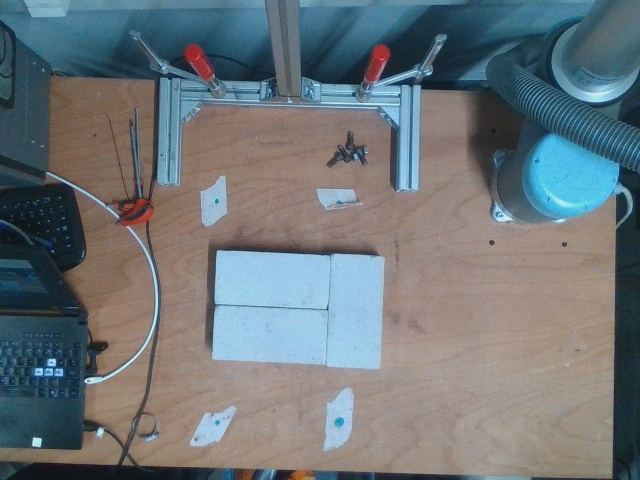brick: (214, 250, 328, 307), (212, 307, 326, 363), (327, 255, 382, 368)
